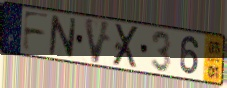3: (150, 30, 174, 74)
6: (179, 35, 201, 76)
F: (21, 9, 51, 54)
N: (47, 13, 78, 60)
V: (83, 16, 113, 66)
X: (111, 23, 141, 70)
